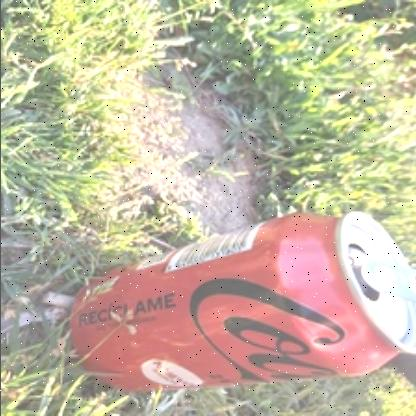Can: (70, 211, 416, 391)
